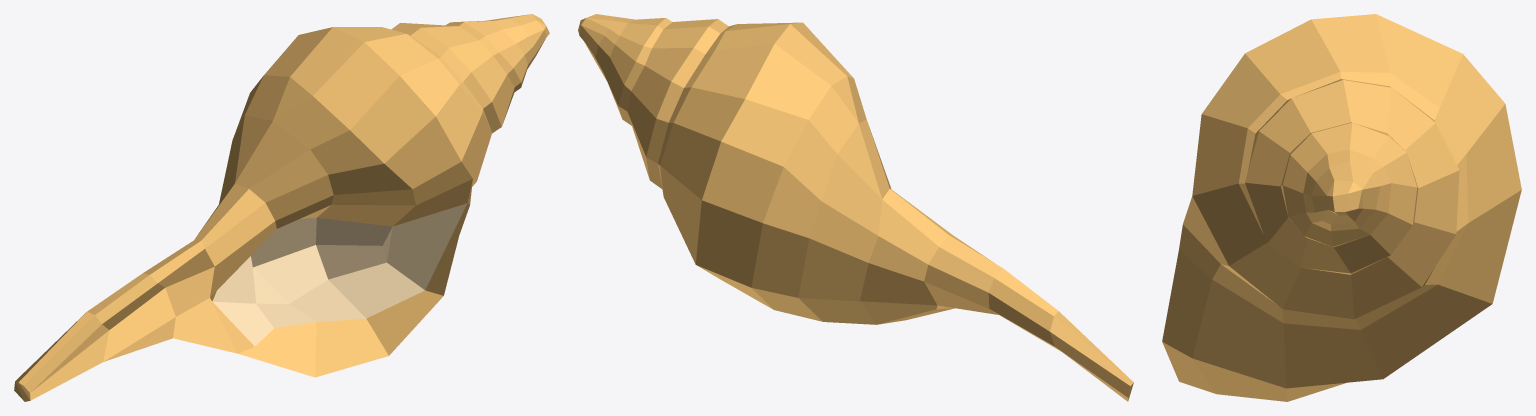
The model's file is Coral_11.fbx.
The picture shows the model from 3 angles, left to right: view 1: azimuth 30°, elevation 25°; view 2: azimuth 150°, elevation 25°; view 3: azimuth 270°, elevation 25°; orthographic projection. The views are drawn at different scales.
Visible parts, largest first — view 1: Coral_11; view 2: Coral_11; view 3: Coral_11.
Part boxes in pixels (x1=…): Coral_11: x1=14, y1=14, x2=549, y2=401; Coral_11: x1=578, y1=14, x2=1133, y2=401; Coral_11: x1=1162, y1=14, x2=1521, y2=401.
Bounding box in the file's own units: 52.17 × 26.67 × 21.99.
